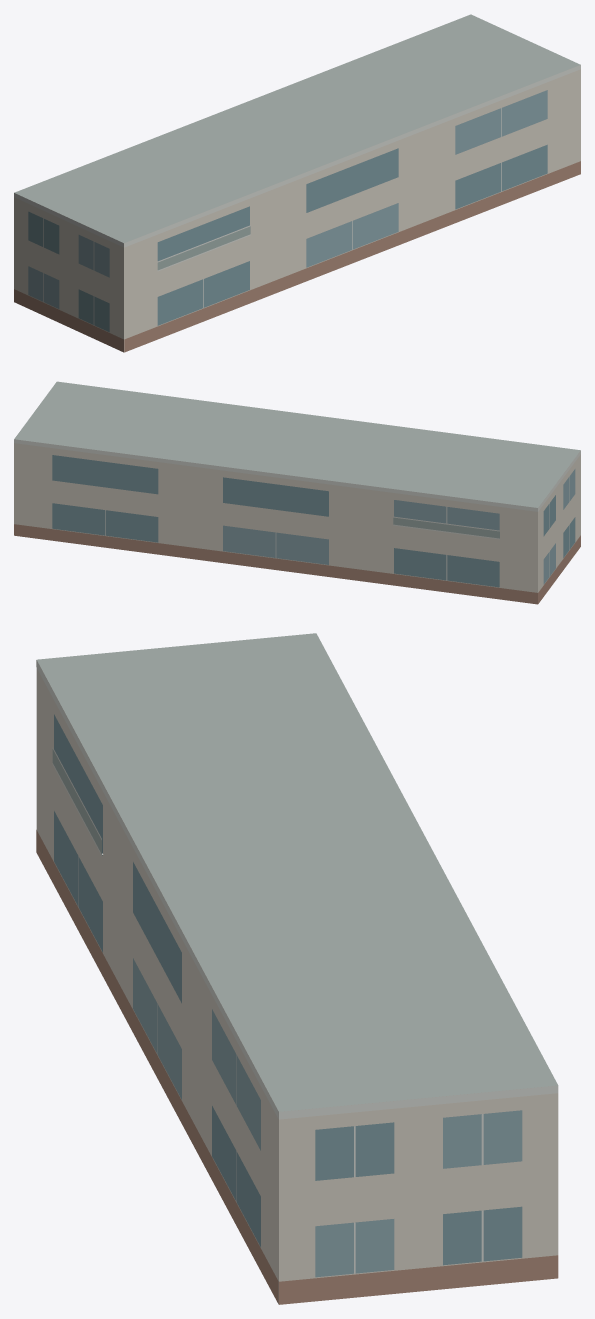
Rendered from survey-upis-32799872.glb.
3 renders of one model, top to bottom at view 1: azimuth 30°, elevation 25°; view 2: azimuth 150°, elevation 25°; view 3: azimuth 270°, elevation 25°, orthographic. The views are drawn at different scales.
Parts seen in each view (by area): view 1: survey-upis-32799872.tmp; view 2: survey-upis-32799872.tmp; view 3: survey-upis-32799872.tmp.
Boxes of the visible parts, x1,y1,x2,y2 form: survey-upis-32799872.tmp: (14, 14, 580, 352); survey-upis-32799872.tmp: (14, 381, 580, 604); survey-upis-32799872.tmp: (36, 633, 558, 1304).
Bounding box in the file's own units: 32.49 × 6.1 × 14.97.
